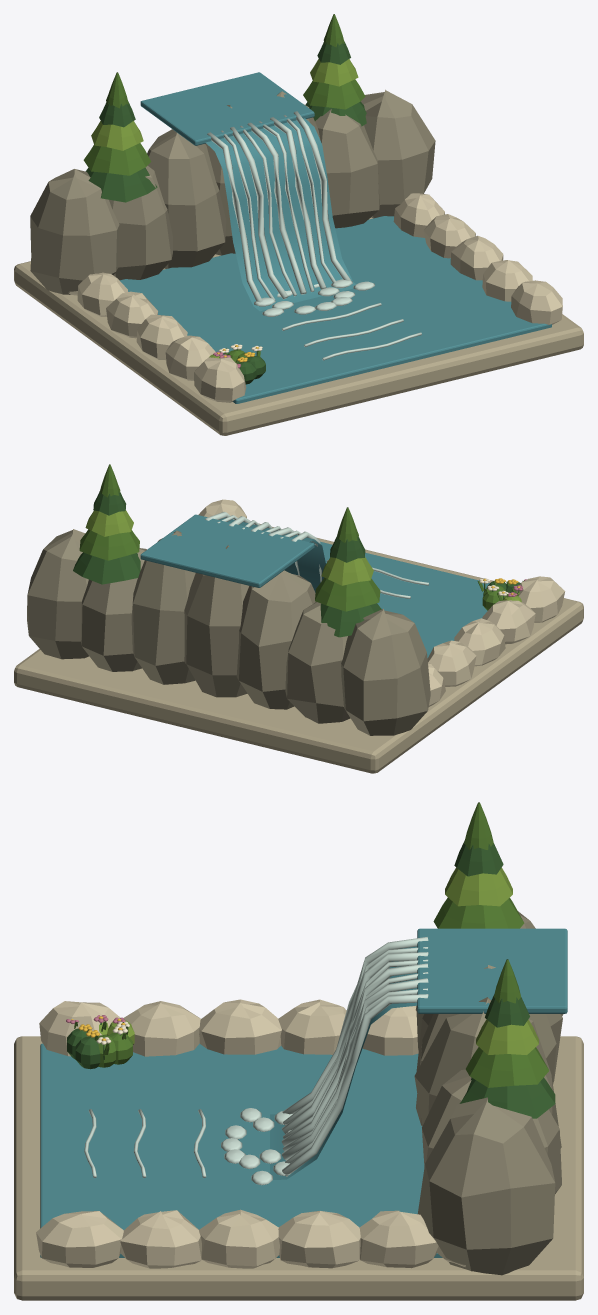
The model's file is 30_river_and_waterfall.glb.
3 renders of one model, top to bottom at view 1: azimuth 30°, elevation 25°; view 2: azimuth 150°, elevation 25°; view 3: azimuth 270°, elevation 25°, orthographic. The views are drawn at different scales.
Visible parts, largest first — view 1: River pool, Terrain tile, Waterfall sheet, Boulder.003, Boulder.005, Upper pool, Boulder.009, Boulder.008, Boulder.004, Boulder.010, Boulder.016, Boulder.013 (+25 smaller); view 2: Terrain tile, Boulder.003, Upper pool, Boulder.005, River pool, Boulder.006, Boulder.007, Boulder.009, Boulder.004, Boulder.008, Boulder.013, Pine foliage tier.006 (+15 smaller); view 3: River pool, Terrain tile, Boulder.009, Upper pool, Boulder.007, Boulder.019, Boulder.016, Boulder.017, Boulder.018, Boulder.012, Boulder.020, Boulder.011 (+26 smaller).
Part boxes in pixels (left/top/right/bottom): River pool: left=119, top=216, right=551, bottom=403; Terrain tile: left=14, top=217, right=583, bottom=435; Waterfall sheet: left=205, top=118, right=355, bottom=311; Boulder.003: left=30, top=169, right=119, bottom=294; Boulder.005: left=147, top=129, right=226, bottom=268; Upper pool: left=140, top=72, right=314, bottom=145; Boulder.009: left=361, top=89, right=435, bottom=218; Boulder.008: left=315, top=109, right=379, bottom=228; Boulder.004: left=109, top=165, right=172, bottom=280; Boulder.010: left=194, top=357, right=246, bottom=402; Boulder.016: left=511, top=280, right=562, bottom=324; Boulder.013: left=106, top=291, right=158, bottom=338; Terrain tile: left=14, top=523, right=583, bottom=773; Boulder.003: left=341, top=609, right=430, bottom=735; Upper pool: left=140, top=514, right=314, bottom=587; Boulder.005: left=236, top=570, right=315, bottom=709; River pool: left=320, top=541, right=489, bottom=657; Boulder.006: left=184, top=545, right=248, bottom=697; Boulder.007: left=131, top=530, right=195, bottom=684; Boulder.009: left=27, top=529, right=88, bottom=659; Boulder.004: left=285, top=601, right=350, bottom=723; Boulder.008: left=81, top=548, right=146, bottom=671; Boulder.013: left=427, top=640, right=476, bottom=686; Pine foliage tier.006: left=315, top=577, right=380, bottom=611; River pool: left=40, top=1043, right=442, bottom=1257; Terrain tile: left=14, top=1036, right=583, bottom=1300; Boulder.009: left=417, top=1097, right=555, bottom=1275; Upper pool: left=417, top=928, right=567, bottom=1013; Boulder.007: left=414, top=997, right=561, bottom=1148; Boulder.019: left=278, top=1211, right=360, bottom=1268; Boulder.016: left=36, top=1211, right=123, bottom=1267; Boulder.017: left=120, top=1210, right=201, bottom=1268; Boulder.018: left=199, top=1209, right=279, bottom=1268; Boulder.012: left=199, top=999, right=281, bottom=1054; Boulder.020: left=359, top=1210, right=438, bottom=1268; Boulder.011: left=123, top=1001, right=200, bottom=1056.
Bounding box in the file's own units: 4.12 × 2.24 × 3.8.
